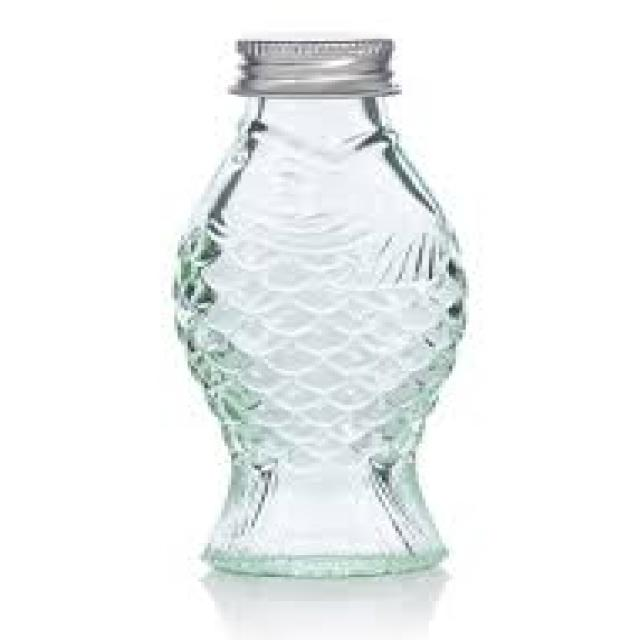Glass-Non-Biodegradable but Recyclable-: (172, 39, 472, 581)
